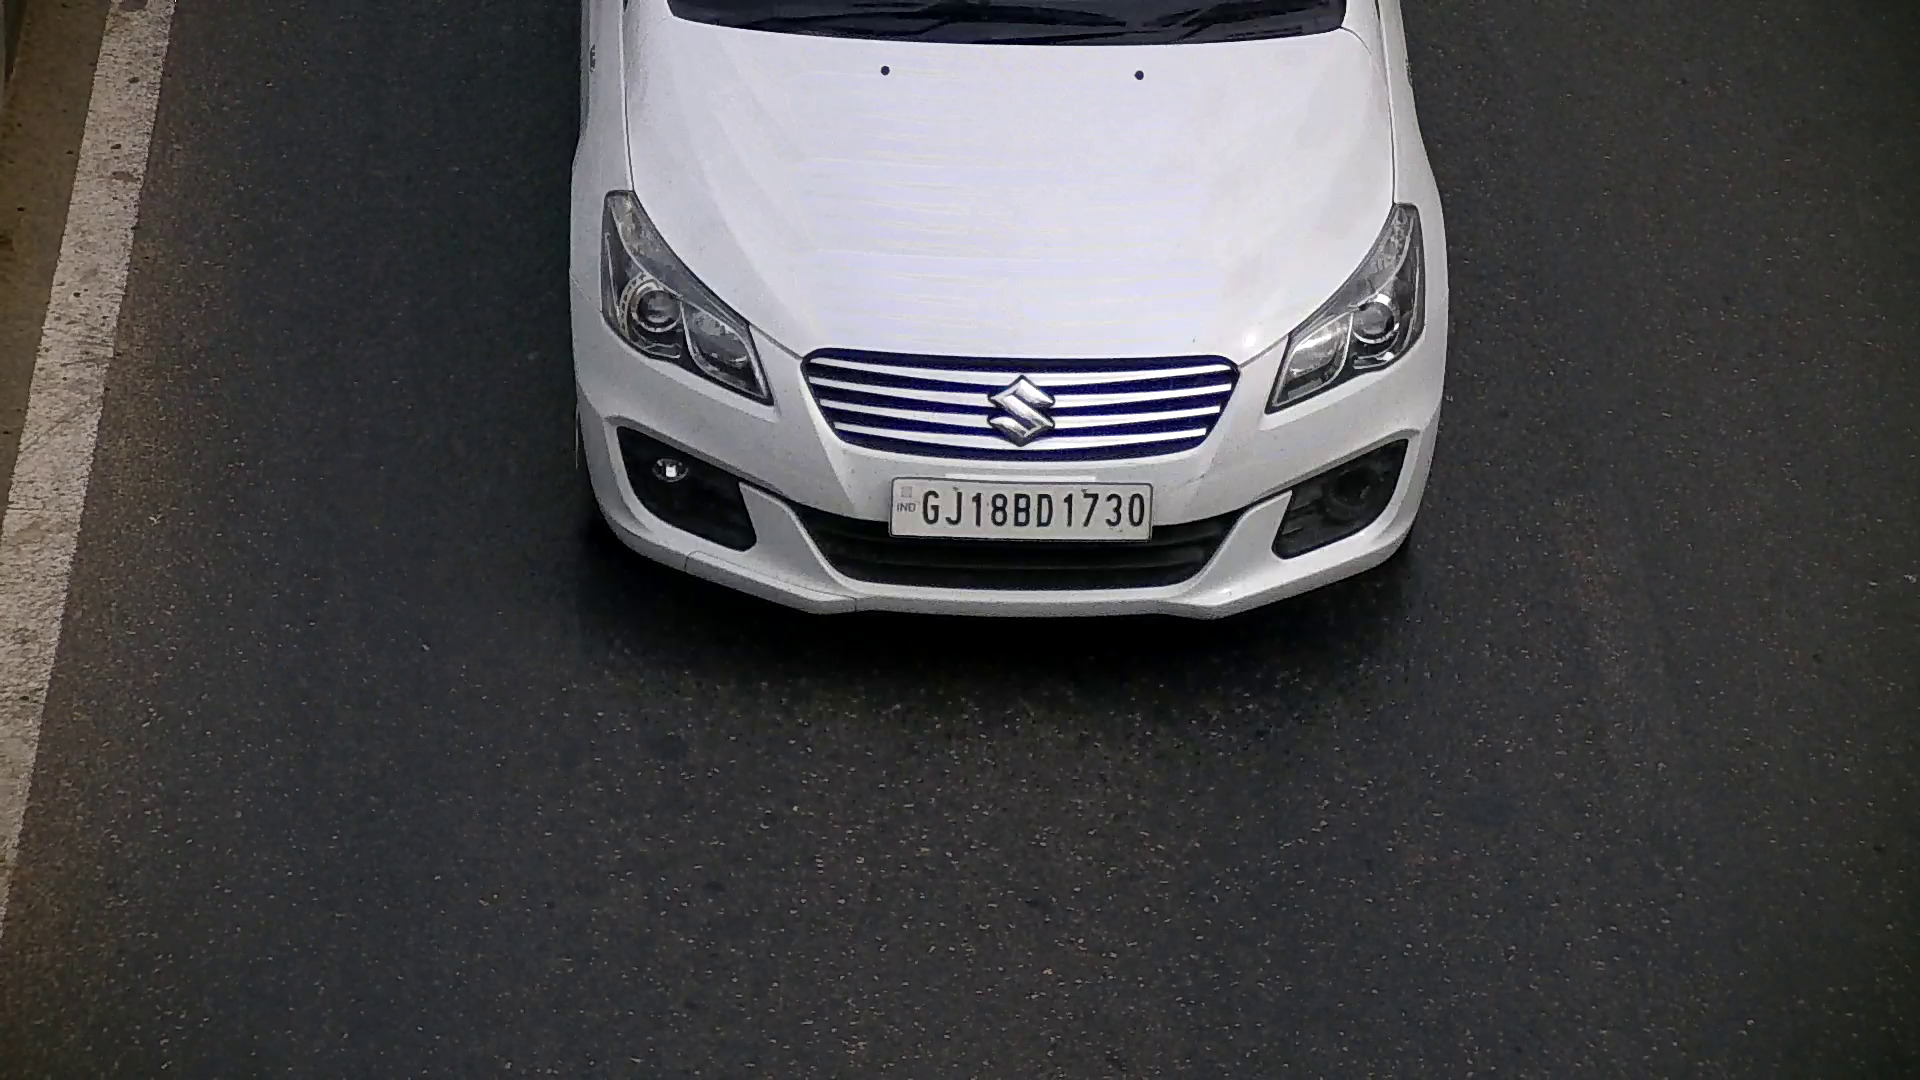numberplate: (889, 477, 1154, 548)
